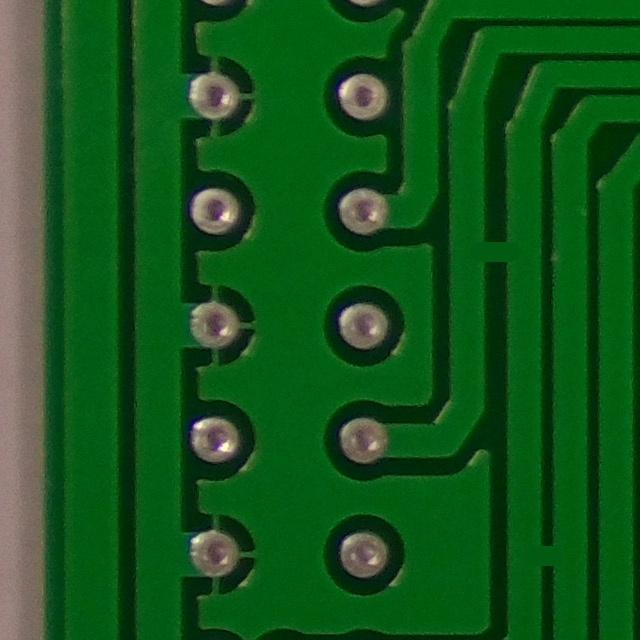short: (497, 502, 595, 615), (444, 204, 548, 291)
